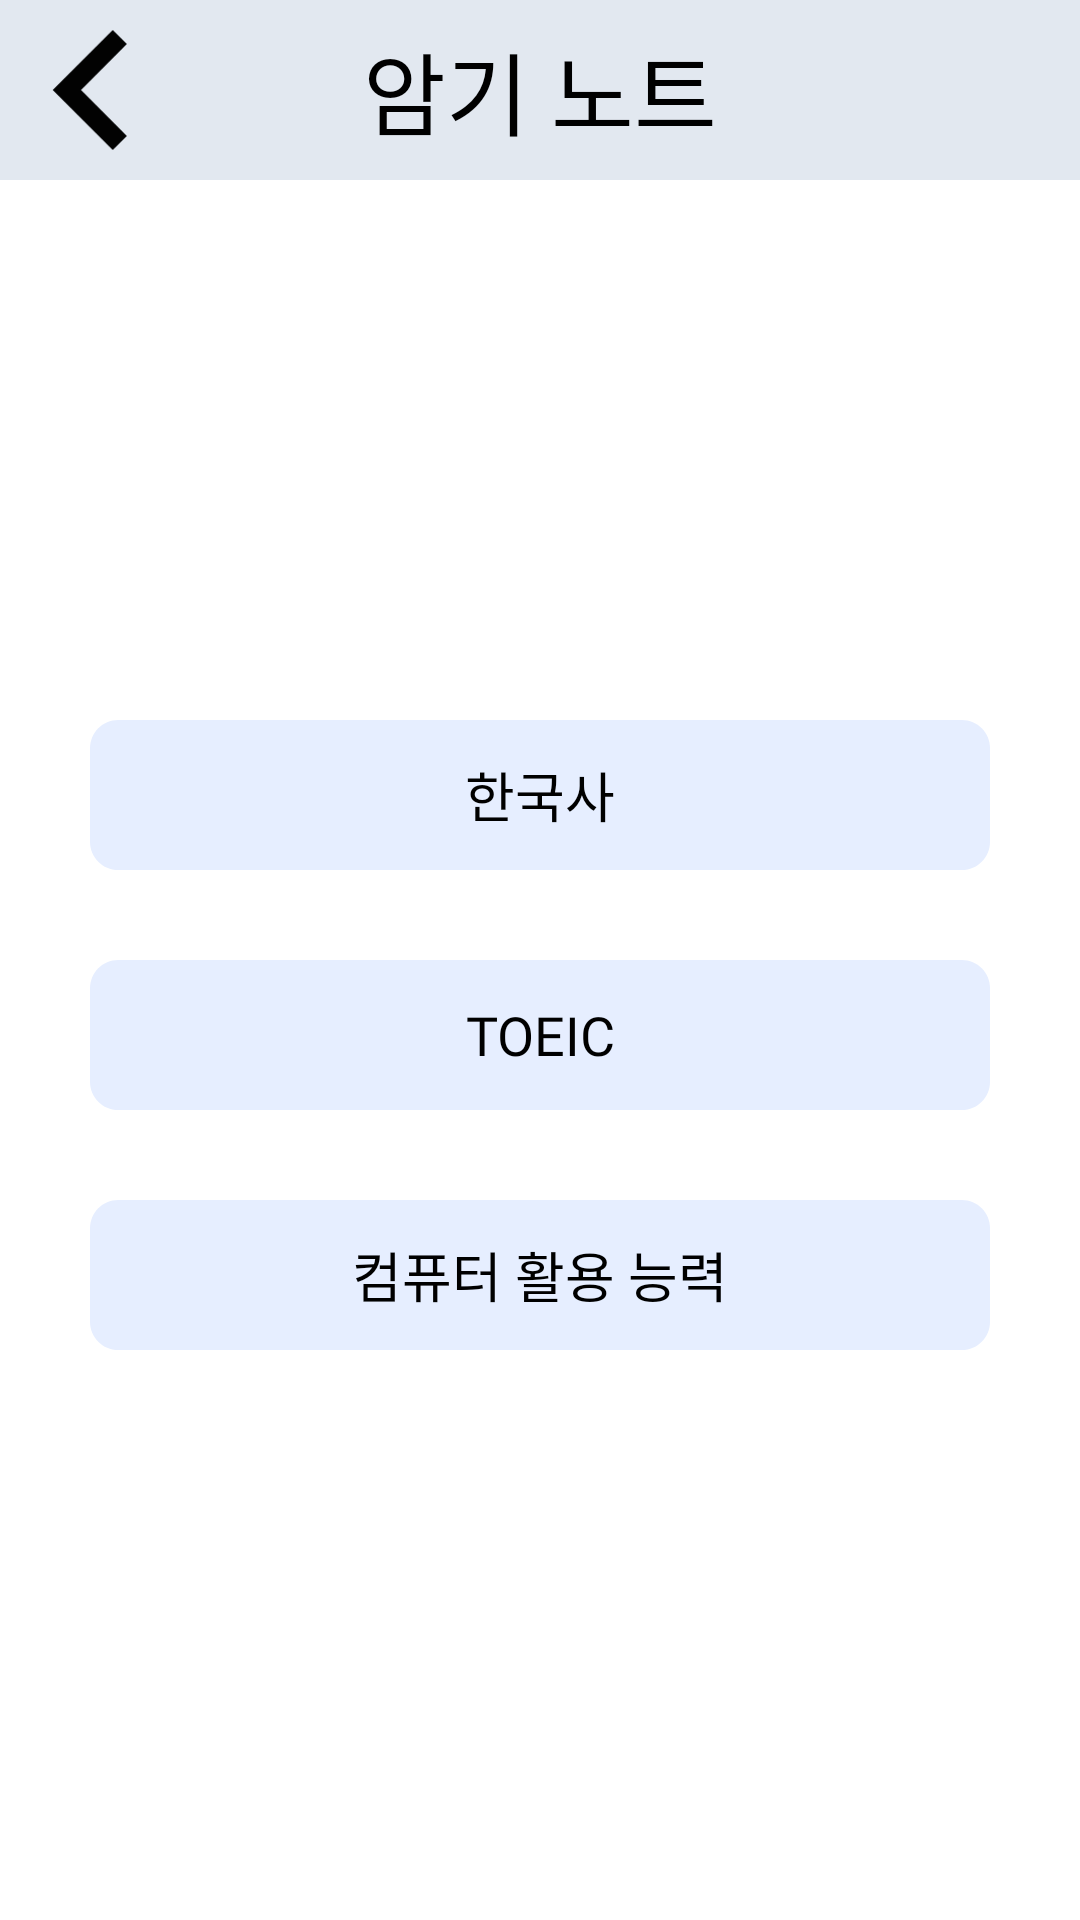

Locate icon controls on the screen. Image size 1080px×1920px, boxes as rect(x1, y1, x2, y2).
back: rect(53, 30, 127, 150)
